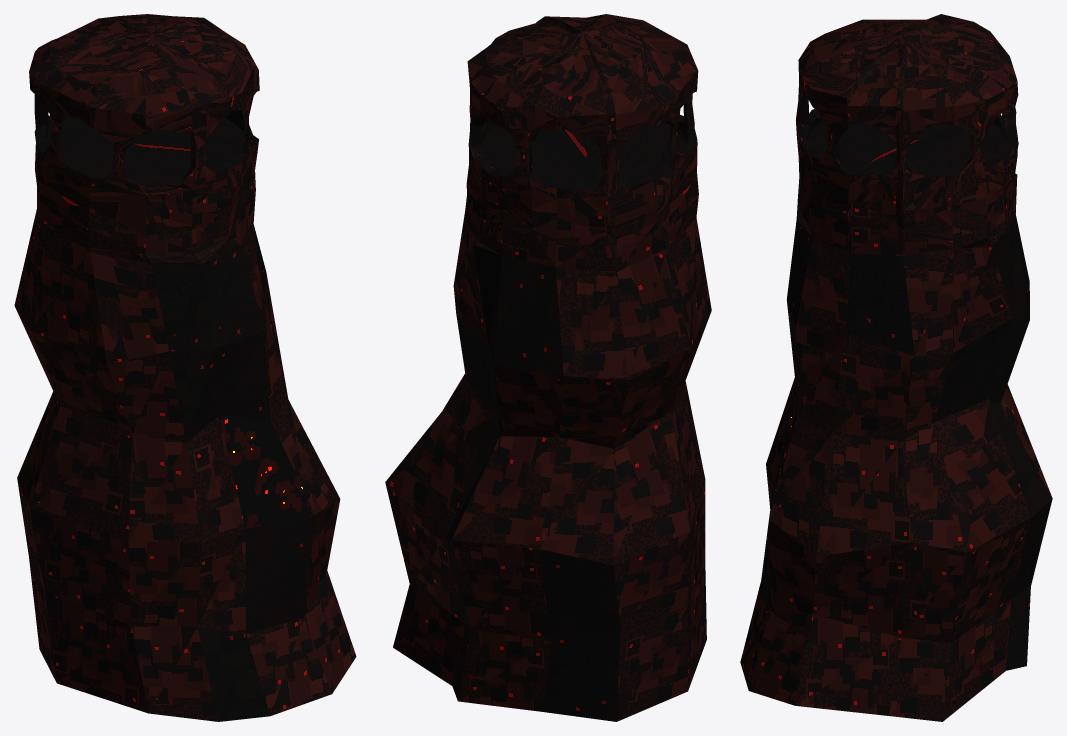
File: tower.glb
The picture shows the model from 3 angles, left to right: view 1: azimuth 30°, elevation 25°; view 2: azimuth 150°, elevation 25°; view 3: azimuth 270°, elevation 25°; orthographic projection. The views are drawn at different scales.
Parts seen in each view (by area): view 1: TowerRock; view 2: TowerRock; view 3: TowerRock.
Boxes of the visible parts, x1,y1,x2,y2 form: TowerRock: [14, 14, 356, 721]; TowerRock: [385, 14, 711, 721]; TowerRock: [740, 14, 1052, 721].
Size of what is drawn, in the model's own units: 22.05 by 47.46 by 21.98.
1 material, 1 textured.
